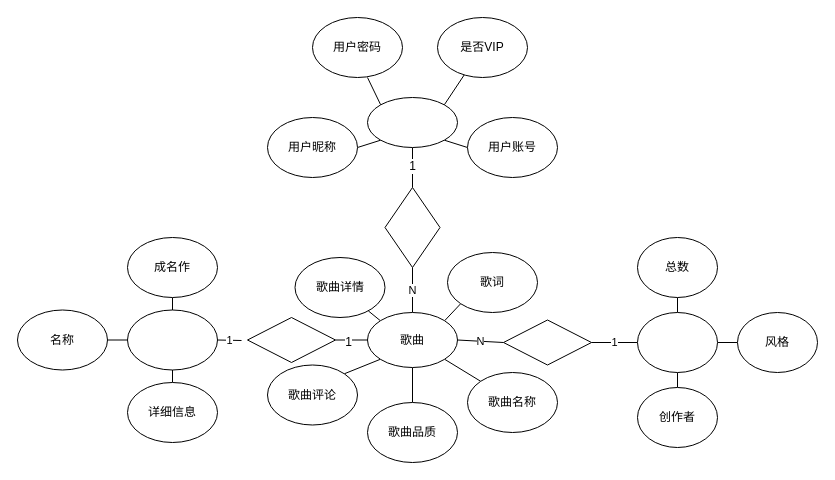
This 835x480 diagram has some shape labels left out. Here are the shapes that lost their labels. From the top down, the centre of each, then its label:
the point at 412,122: 用户
the point at 412,227: 浏览/收听
the point at 172,339: 艺人
the point at 291,339: 创作
the point at 547,342: 包含
the point at 677,342: 歌单
